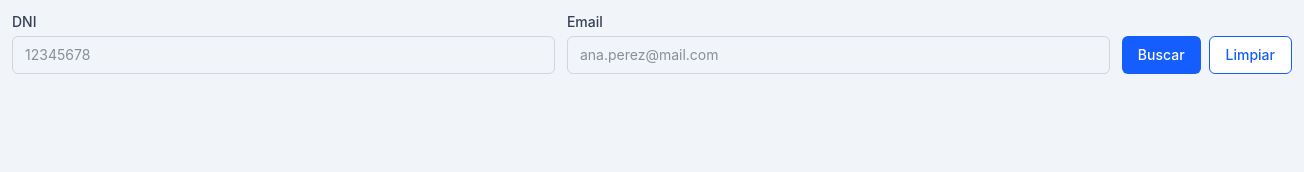
Test case: CustomerSearch › no busca y muestra errores si el DNI o el email son inválidos
Type "123" into the field labelled "DNI".
click(283, 55); type("123")  # box [12, 36, 555, 74]
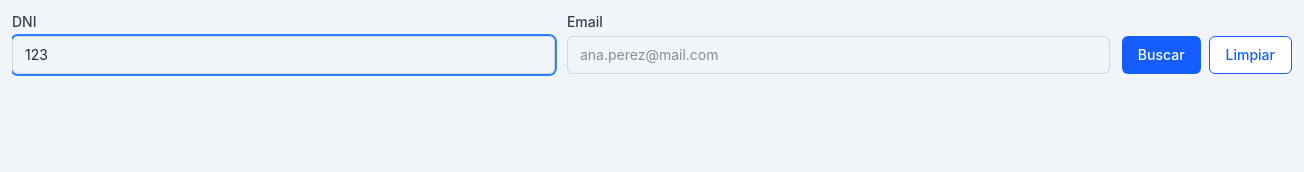
Type "ana@" into the field labelled "Email".
click(838, 55); type("ana@")  # box [567, 36, 1110, 74]
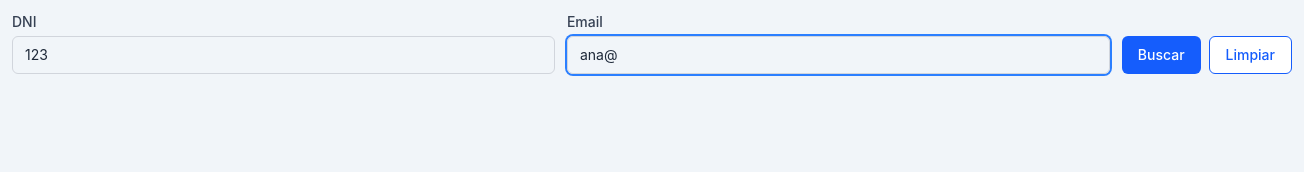
Click the button "Buscar".
click(1161, 55)  # box [1122, 36, 1201, 74]
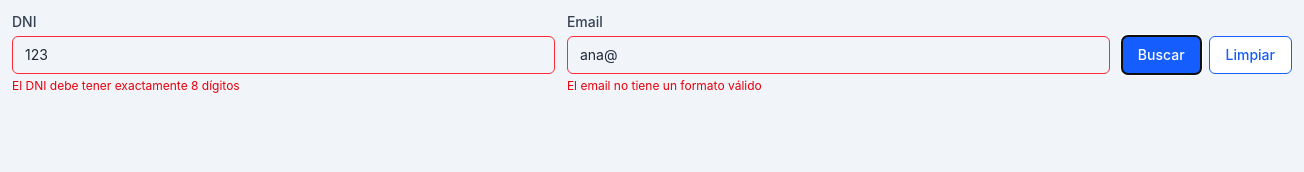
Expected: the text "El DNI debe tener exactamente 8 dígitos" is shown, [12, 78, 240, 93]
Expected: the text "El email no tiene un formato válido" is shown, [567, 78, 762, 93]
